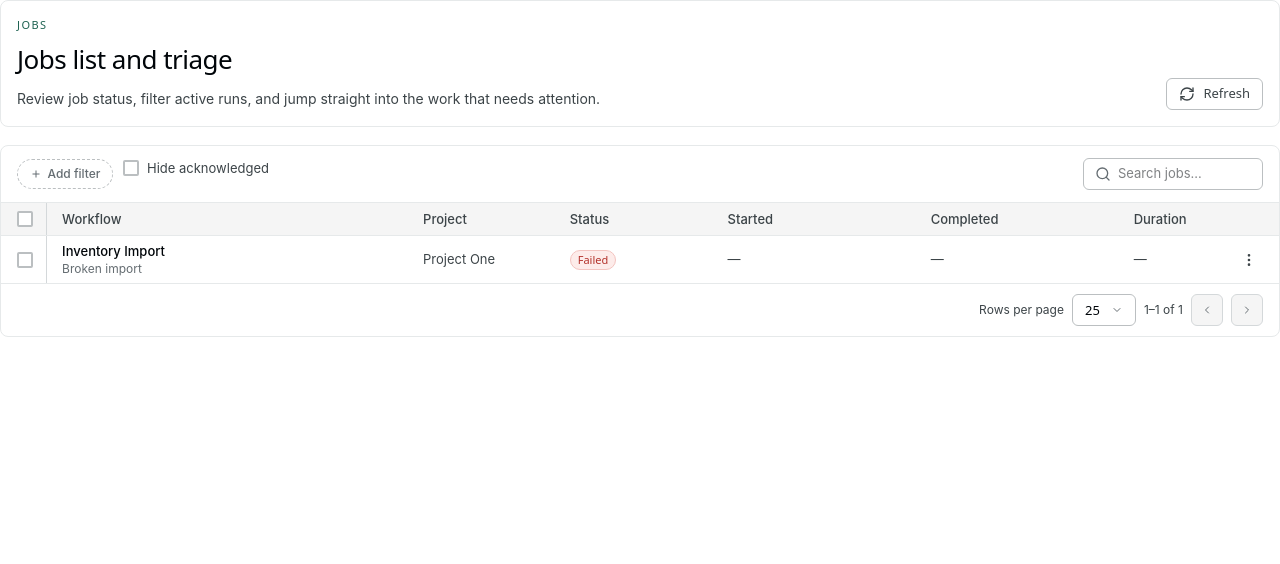
Test: JobsListPage › selects several statuses in one filter and asks the server for any of them
Expected: the text "Broken import" is shown, [62,261,142,276]
Step 1. Click the button "Add filter" → [65, 174], box [17,159,113,189]
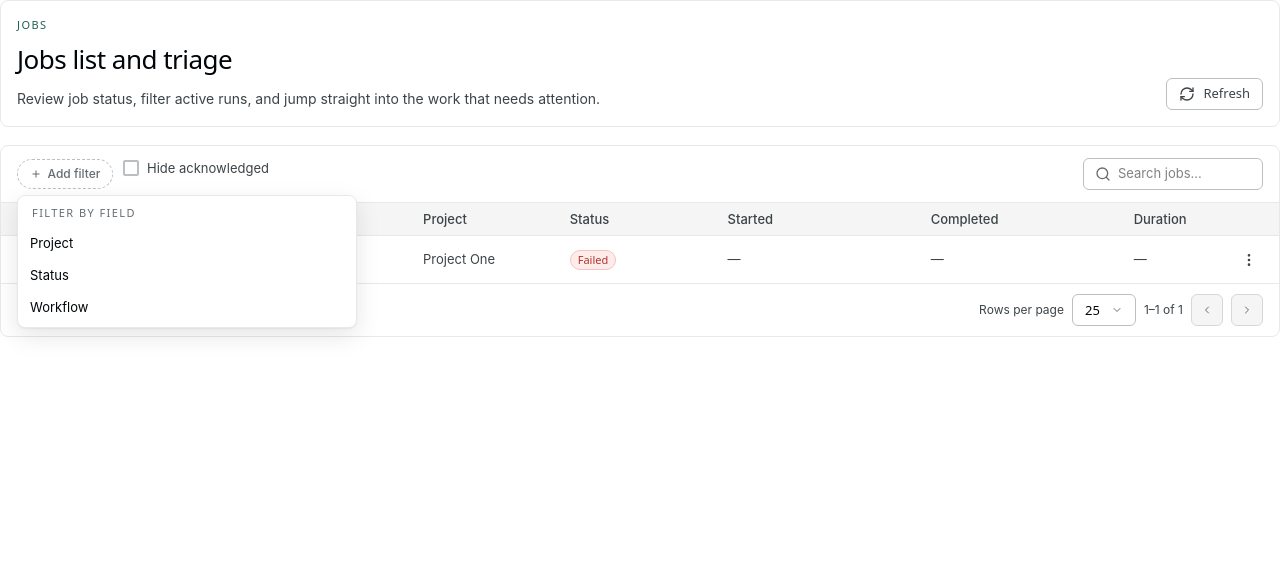
Step 2. Click the menu item "Status" → [49, 275], box [22,259,352,291]
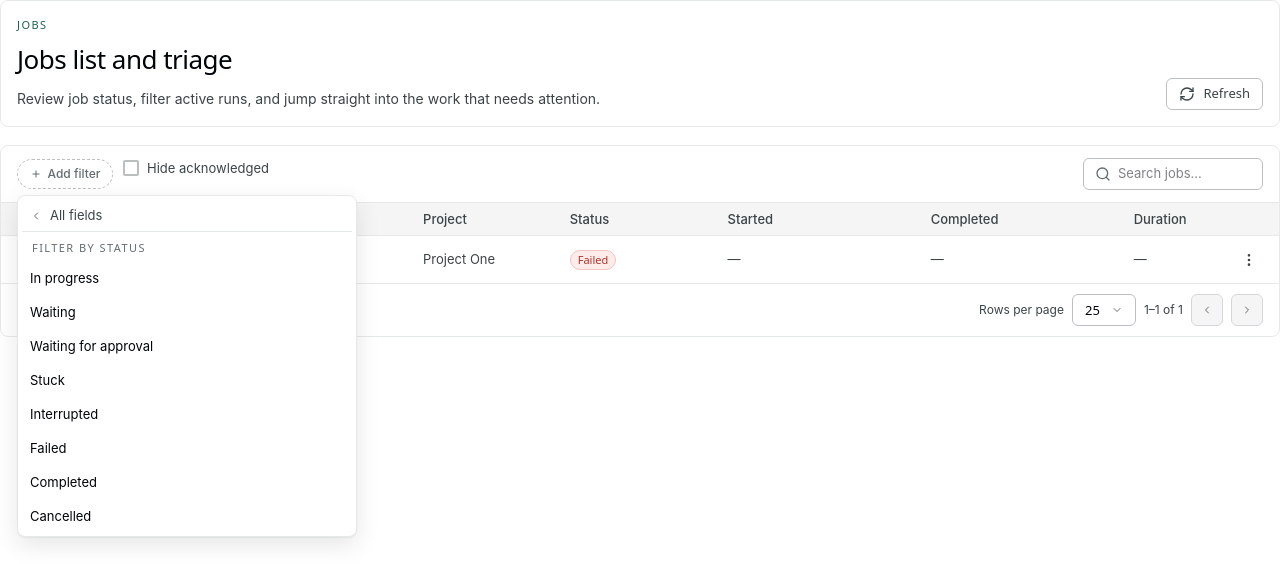
Step 3. Click the menu item "Failed" → [48, 448], box [22,432,352,464]
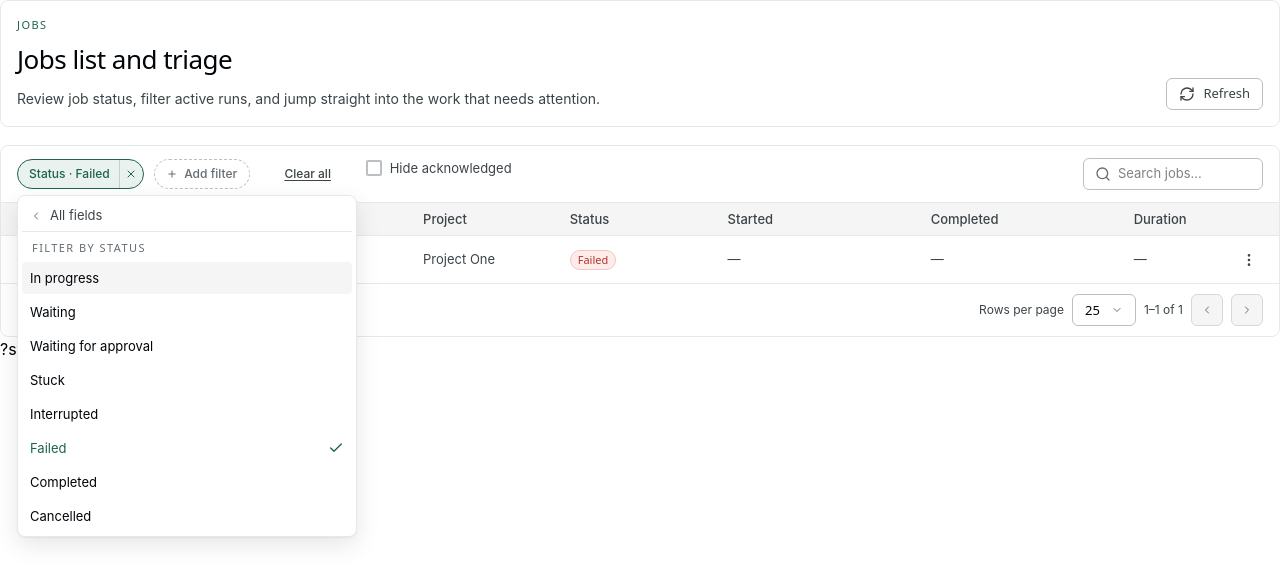
// The menu stays open for the next status.
Step 4. Click the menu item "Stuck" → [47, 380], box [22,364,352,396]
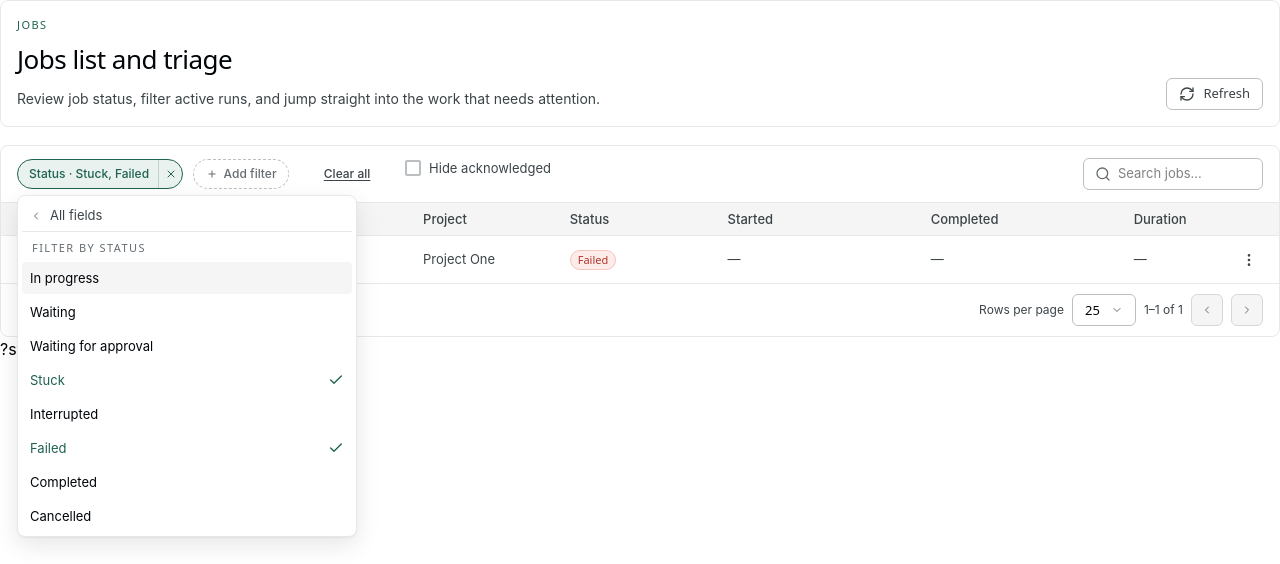
Now the menu item "Failed" is checked
Now the menu item "Stuck" is checked, box [22,364,352,396]
Now the text "Status · Stuck, Failed" is shown, box [18,165,158,183]
Step 5. Click the menu item "Failed" → [48, 448], box [22,432,352,464]
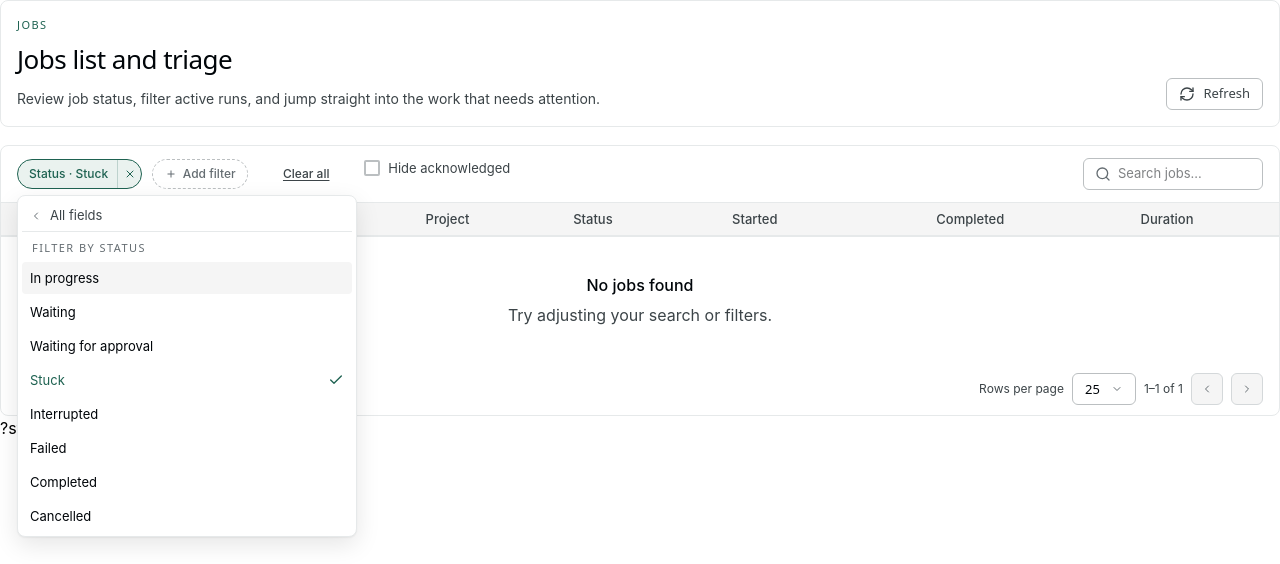
Now the text "Status · Stuck" is shown, box [29,166,108,181]
Now the text with test id "location-search" reads "?status=stuck", box [0,418,106,438]
